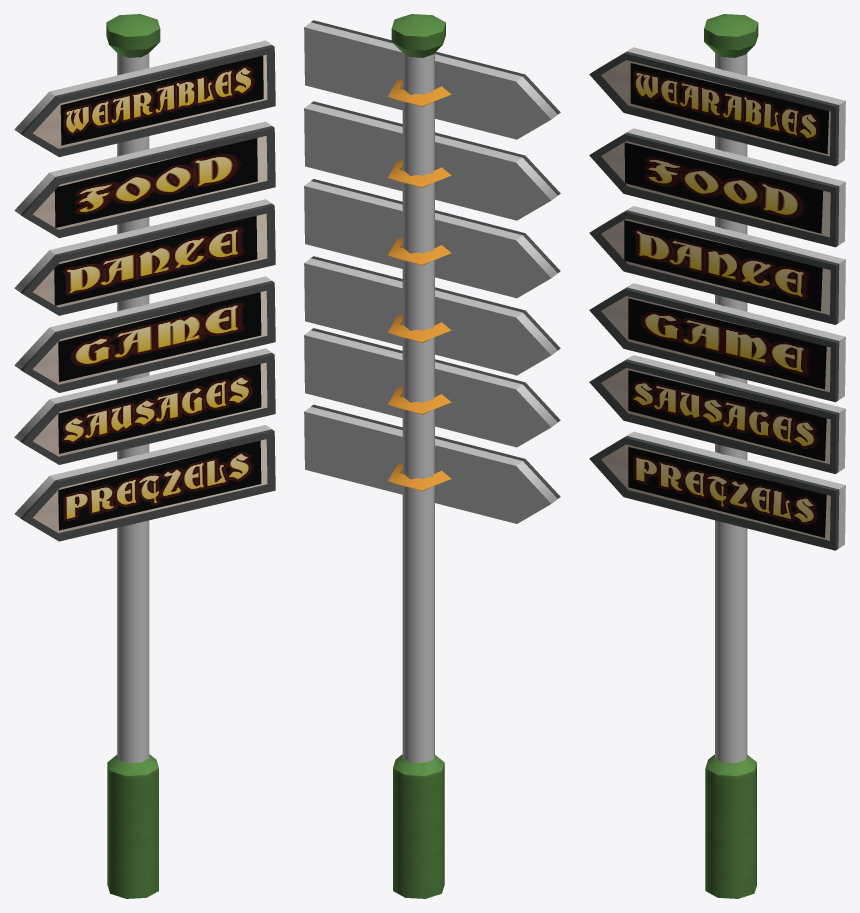
Rendered from SignPost_Art.fbx.
3 views of the same model, side by side, from view 1: azimuth 30°, elevation 25°; view 2: azimuth 150°, elevation 25°; view 3: azimuth 330°, elevation 25° (orthographic).
Parts seen in each view (by area): view 1: Oktoberfest_SignPost, Oktoberfest_SignPost_Sign04_Lettering, Oktoberfest_SignPost_Sign06_Lettering, Oktoberfest_SignPost_Sign05_Lettering, Oktoberfest_SignPost_Sign01_Lettering, Oktoberfest_SignPost_Sign03_Lettering, Oktoberfest_SignPost_Sign02_Lettering, Oktoberfest_SignPost_Sign03, Oktoberfest_SignPost_Sign02, Oktoberfest_SignPost_Sign04, Oktoberfest_SignPost_Sign01, Oktoberfest_SignPost_Sign06 (+1 smaller); view 2: Oktoberfest_SignPost, Oktoberfest_SignPost_Sign05, Oktoberfest_SignPost_Sign02, Oktoberfest_SignPost_Sign03, Oktoberfest_SignPost_Sign01, Oktoberfest_SignPost_Sign06, Oktoberfest_SignPost_Sign04, Oktoberfest_SignPost_Sign03_Handle, Oktoberfest_SignPost_Sign04_Handle, Oktoberfest_SignPost_Sign02_Handle, Oktoberfest_SignPost_Sign05_Handle, Oktoberfest_SignPost_Sign01_Handle (+1 smaller); view 3: Oktoberfest_SignPost, Oktoberfest_SignPost_Sign04_Lettering, Oktoberfest_SignPost_Sign05_Lettering, Oktoberfest_SignPost_Sign01_Lettering, Oktoberfest_SignPost_Sign06_Lettering, Oktoberfest_SignPost_Sign02_Lettering, Oktoberfest_SignPost_Sign03_Lettering, Oktoberfest_SignPost_Sign06, Oktoberfest_SignPost_Sign01, Oktoberfest_SignPost_Sign02, Oktoberfest_SignPost_Sign05, Oktoberfest_SignPost_Sign04 (+1 smaller).
Boxes of the visible parts, x1=… form: Oktoberfest_SignPost: x1=106, y1=14, x2=160, y2=898; Oktoberfest_SignPost_Sign04_Lettering: x1=60, y1=55, x2=263, y2=145; Oktoberfest_SignPost_Sign06_Lettering: x1=58, y1=440, x2=261, y2=530; Oktoberfest_SignPost_Sign05_Lettering: x1=58, y1=364, x2=261, y2=453; Oktoberfest_SignPost_Sign01_Lettering: x1=58, y1=292, x2=261, y2=381; Oktoberfest_SignPost_Sign03_Lettering: x1=54, y1=138, x2=257, y2=227; Oktoberfest_SignPost_Sign02_Lettering: x1=54, y1=216, x2=257, y2=305; Oktoberfest_SignPost_Sign03: x1=14, y1=121, x2=275, y2=238; Oktoberfest_SignPost_Sign02: x1=14, y1=199, x2=275, y2=315; Oktoberfest_SignPost_Sign04: x1=14, y1=40, x2=275, y2=156; Oktoberfest_SignPost_Sign01: x1=14, y1=276, x2=275, y2=392; Oktoberfest_SignPost_Sign06: x1=14, y1=425, x2=275, y2=541; Oktoberfest_SignPost: x1=391, y1=14, x2=445, y2=898; Oktoberfest_SignPost_Sign05: x1=304, y1=328, x2=560, y2=447; Oktoberfest_SignPost_Sign02: x1=304, y1=179, x2=560, y2=298; Oktoberfest_SignPost_Sign03: x1=304, y1=101, x2=560, y2=220; Oktoberfest_SignPost_Sign01: x1=304, y1=256, x2=560, y2=375; Oktoberfest_SignPost_Sign06: x1=304, y1=404, x2=560, y2=523; Oktoberfest_SignPost_Sign04: x1=304, y1=20, x2=560, y2=139; Oktoberfest_SignPost_Sign03_Handle: x1=388, y1=160, x2=451, y2=187; Oktoberfest_SignPost_Sign04_Handle: x1=388, y1=79, x2=451, y2=106; Oktoberfest_SignPost_Sign02_Handle: x1=388, y1=237, x2=451, y2=265; Oktoberfest_SignPost_Sign05_Handle: x1=388, y1=386, x2=451, y2=414; Oktoberfest_SignPost_Sign01_Handle: x1=388, y1=315, x2=451, y2=342; Oktoberfest_SignPost: x1=704, y1=14, x2=758, y2=898; Oktoberfest_SignPost_Sign04_Lettering: x1=630, y1=63, x2=828, y2=153; Oktoberfest_SignPost_Sign05_Lettering: x1=628, y1=370, x2=826, y2=461; Oktoberfest_SignPost_Sign01_Lettering: x1=628, y1=298, x2=826, y2=389; Oktoberfest_SignPost_Sign06_Lettering: x1=628, y1=447, x2=826, y2=537; Oktoberfest_SignPost_Sign02_Lettering: x1=624, y1=220, x2=822, y2=311; Oktoberfest_SignPost_Sign03_Lettering: x1=624, y1=142, x2=823, y2=233; Oktoberfest_SignPost_Sign06: x1=589, y1=431, x2=845, y2=550; Oktoberfest_SignPost_Sign01: x1=589, y1=283, x2=845, y2=402; Oktoberfest_SignPost_Sign02: x1=589, y1=206, x2=845, y2=324; Oktoberfest_SignPost_Sign05: x1=589, y1=355, x2=845, y2=473; Oktoberfest_SignPost_Sign04: x1=589, y1=47, x2=845, y2=166.
Size of the model in its own units: 99.68 by 332 by 22.85.
